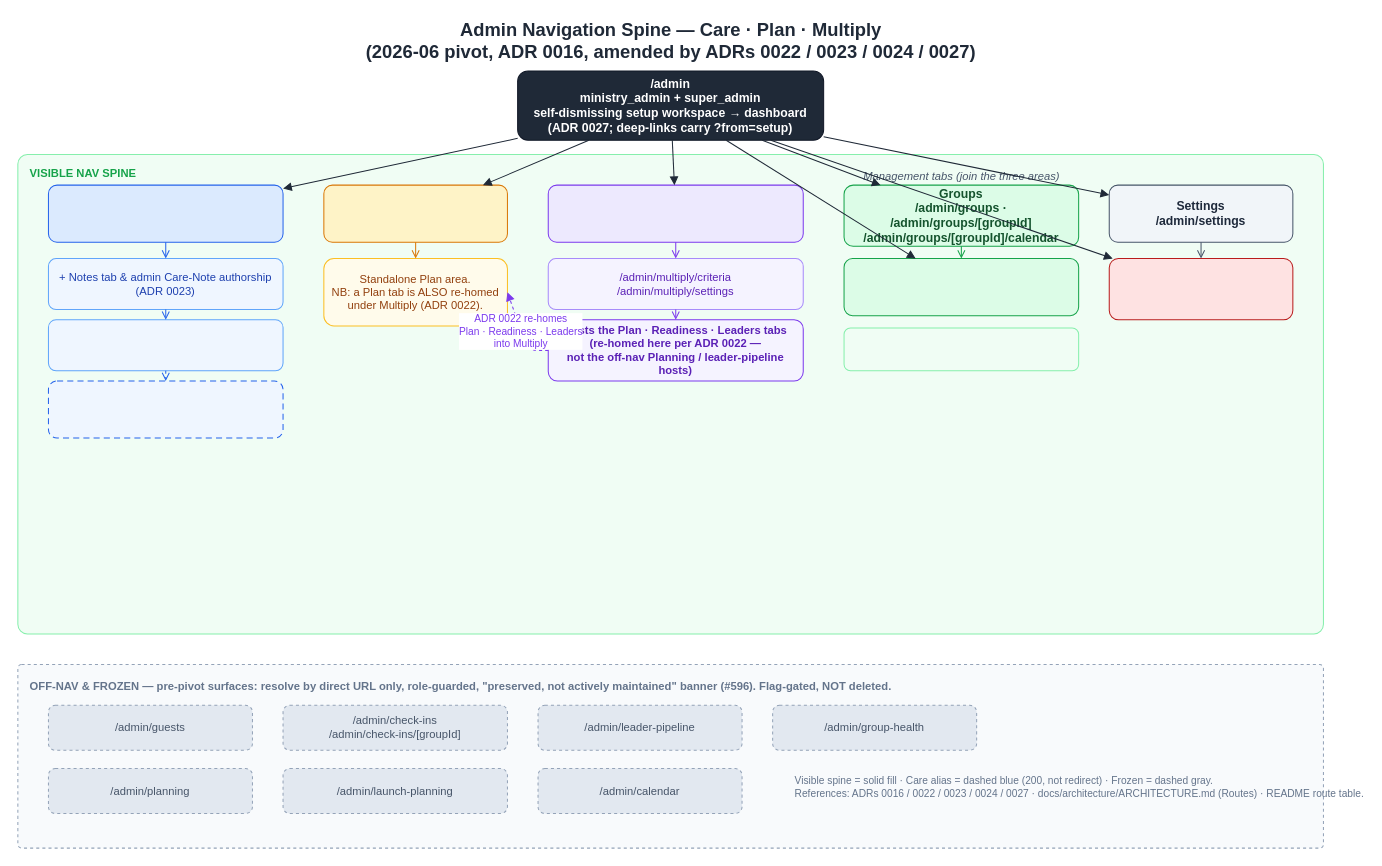
This 1382x866 diagram has some shape labels left out. The shapes that lost their labels are listed below. From the top down, each one's centre as x and y in pixels, then its label:
At point 165,213: "Care /admin/care".
At point 415,213: "Plan /admin/plan".
At point 675,213: "Multiply /admin/multiply".
At point 961,287: "People /admin/people · /admin/people/[kind]/[personId]".
At point 1200,289: "Super-Admin /admin/super-admin (super_admin only)".
At point 165,345: "shepherd-care detail surfaces /admin/shepherd-care/*".
At point 961,349: "Seeded ON by ADR 0024 — the Super-Admin console can re-hide them.".
At point 165,409: "/admin/follow-ups Care ALIAS — renders the Care shell (HTTP 200, NOT a redirect)".
